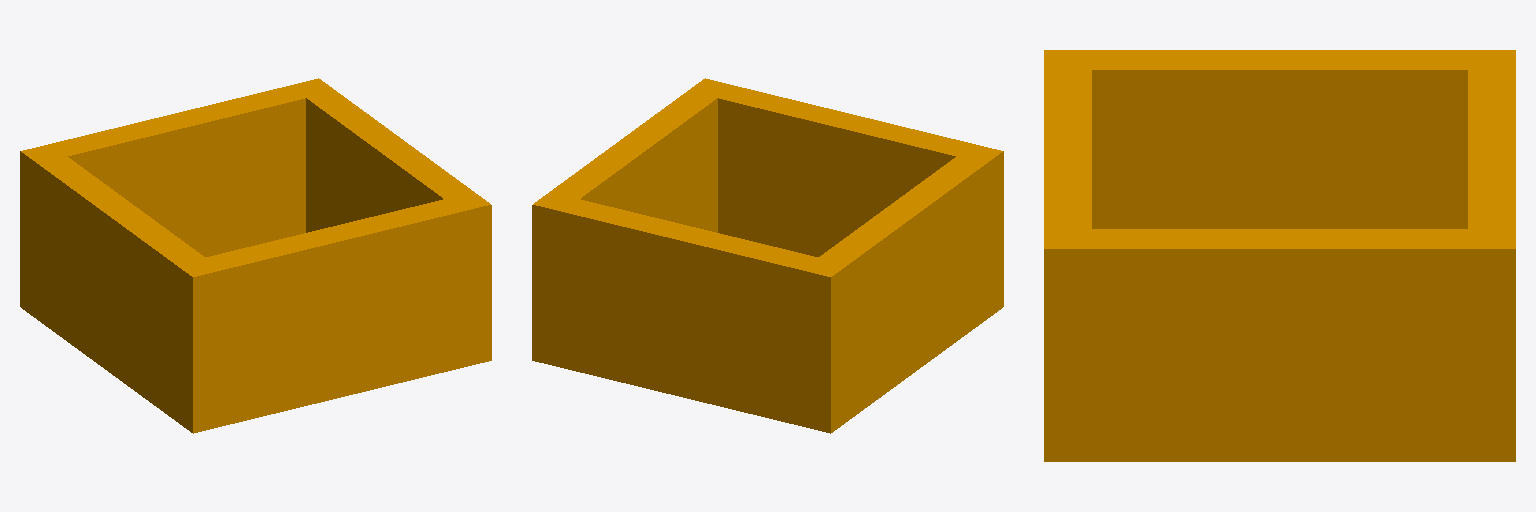
robot.urdf — box:
<?xml version="1.0" ?>
<robot name="box">
  <link name="base">
    <inertial>
      <origin rpy="0 0 0" xyz="0.5 0.5 1"/>
      <mass value=".1"/>
      <inertia ixx="0" ixy="0" ixz="0" iyy="0" iyz="0" izz="0"/>
    </inertial>
    <visual>
      <origin rpy="0 0 0" xyz="0.5 0.5 1"/>
      <geometry>
        <mesh filename="box.obj" scale="1 1 1"/>
      </geometry>
    </visual>
    <collision>
      <origin rpy="0 0 0" xyz="0.5 0.5 1"/>
      <geometry>
        <mesh filename="box.obj" scale="1 1 1"/>
      </geometry>
    </collision>
  </link>
</robot>

--- What the picture shows (computed from the rendered views, not written in the file) ---
The picture shows the robot from 3 angles, left to right: view 1: azimuth 30°, elevation 25°; view 2: azimuth 150°, elevation 25°; view 3: azimuth 270°, elevation 25°; orthographic projection.
Model box with 1 links and 0 joints (none), rooted at base, posed every joint at zero.
Links seen in each view (by area): view 1: base; view 2: base; view 3: base.
Boxes of the visible links, box(x1,y1,x2,y2) form: base: box(20, 78, 491, 433); base: box(532, 78, 1003, 433); base: box(1044, 50, 1515, 461).
Size in the robot's own frame: 1 by 1 by 0.5 metres.
1 mesh visuals loaded from 1 distinct referenced files (1 OBJ).